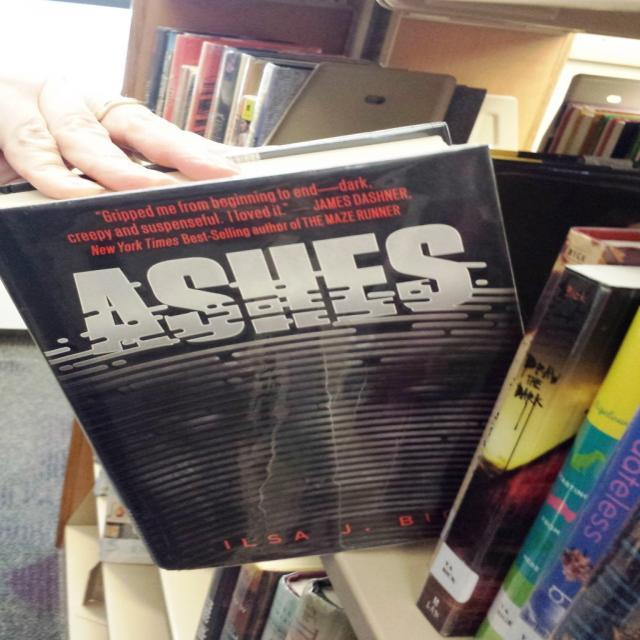book: (1, 115, 617, 575)
